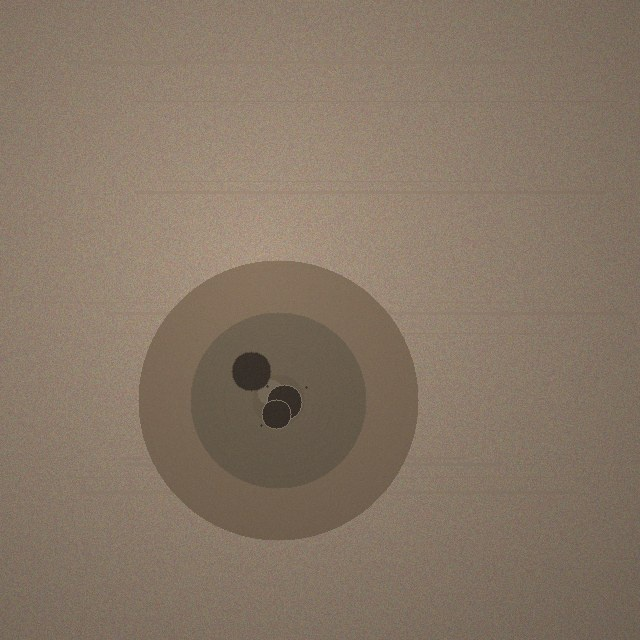shrinkage: (138, 260, 418, 540)
